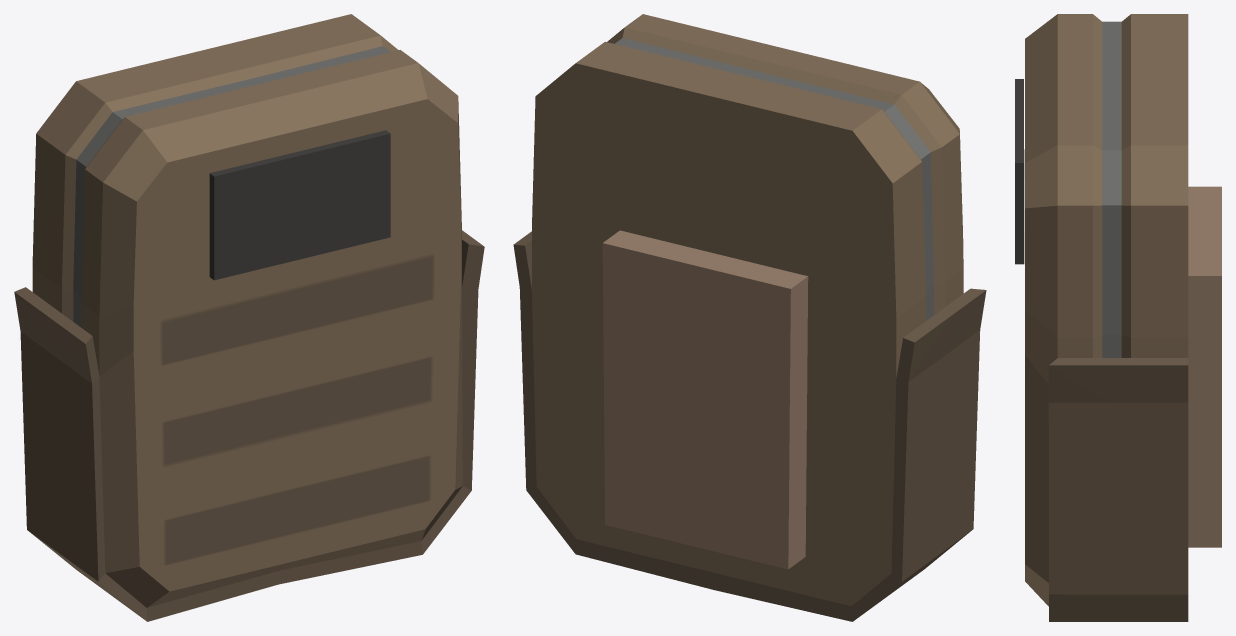
File: Pouch_04_SM.FBX
3 views of the same model, side by side, from view 1: azimuth 30°, elevation 25°; view 2: azimuth 150°, elevation 25°; view 3: azimuth 270°, elevation 25° (orthographic). The views are drawn at different scales.
Visible parts, largest first — view 1: Pouch_04_SM; view 2: Pouch_04_SM; view 3: Pouch_04_SM.
Part boxes in pixels (x1,y1,x2,y2): Pouch_04_SM: [14, 14, 484, 621]; Pouch_04_SM: [513, 14, 986, 621]; Pouch_04_SM: [1015, 14, 1221, 621].
Size of what is drawn, in the model's own units: 14.14 by 6.51 by 16.61.
